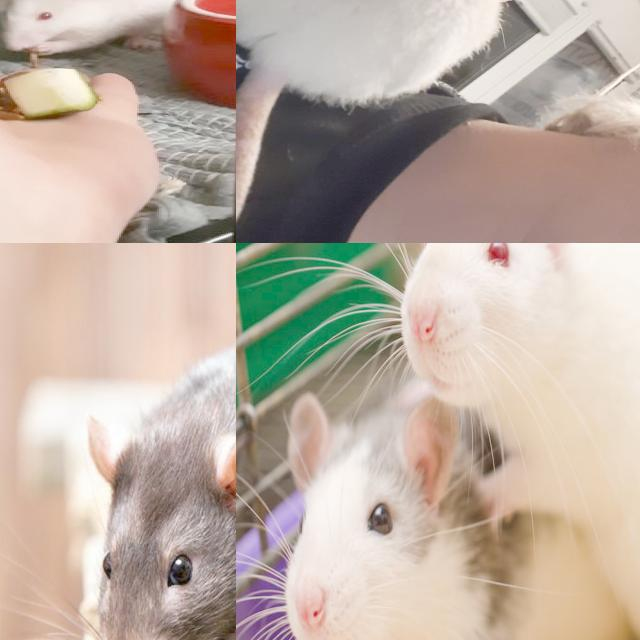rat: (413, 243, 640, 640), (274, 386, 617, 640), (87, 287, 236, 640), (236, 0, 498, 106), (0, 0, 185, 65)
